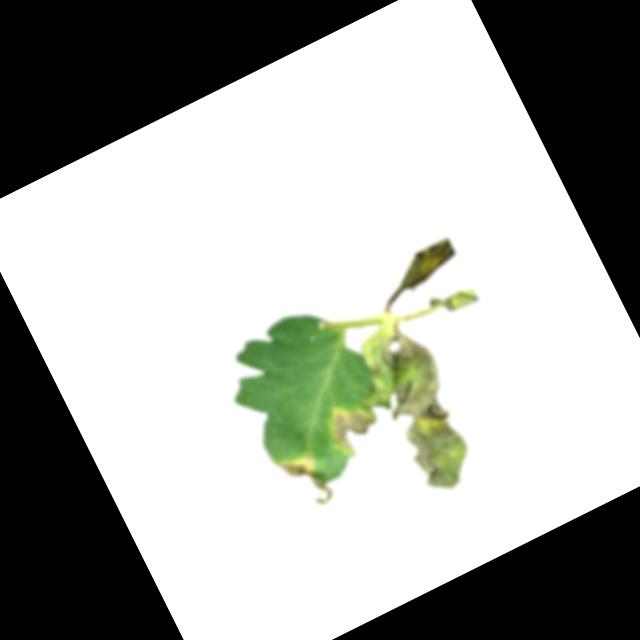Late_blight: (339, 312, 492, 506), (275, 444, 337, 517), (321, 394, 381, 458)
